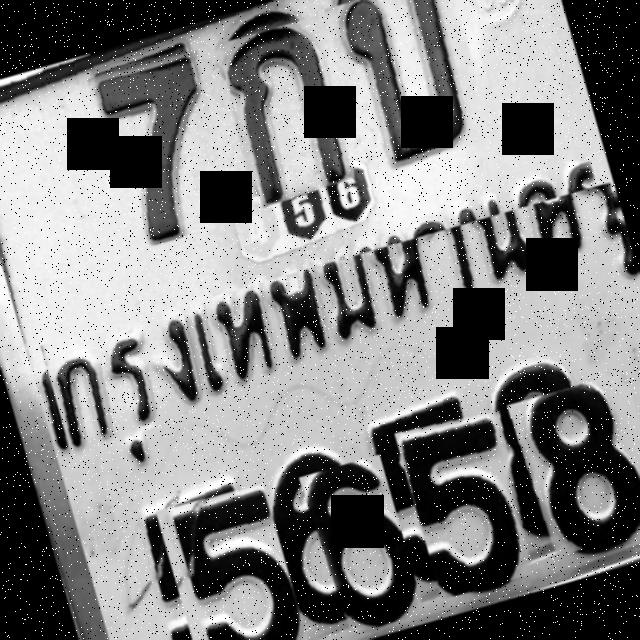letters: (323, 0, 509, 180), (87, 48, 246, 250), (394, 403, 545, 600), (216, 14, 365, 208), (507, 371, 640, 559), (155, 480, 309, 640), (299, 454, 425, 636)
license-plate: (0, 0, 640, 640)
province: (40, 180, 640, 457)
